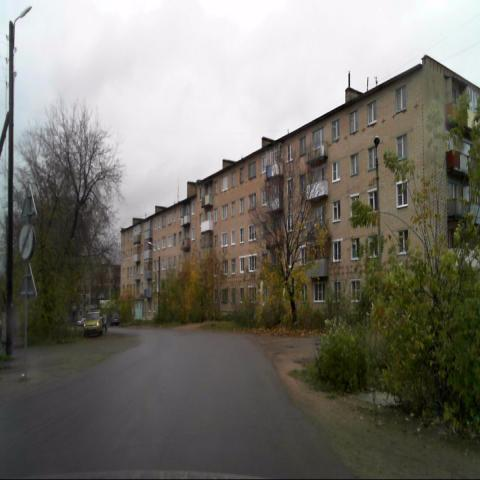3_25: (18, 224, 34, 259)
